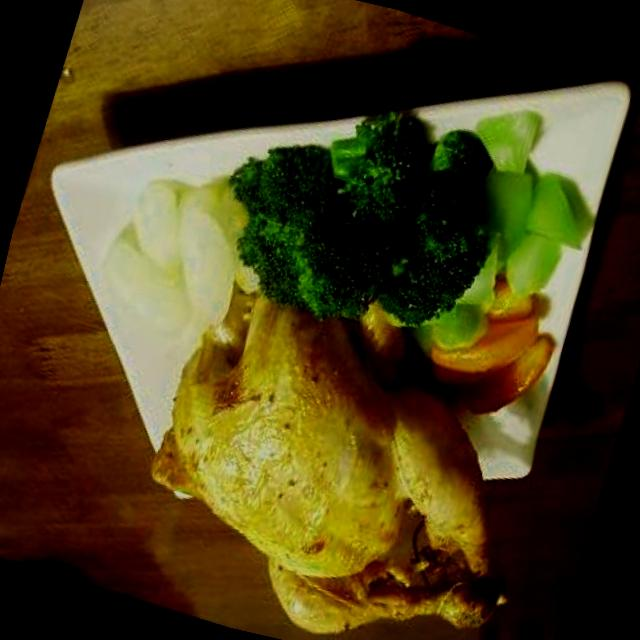Chicken: (105, 276, 579, 640)
